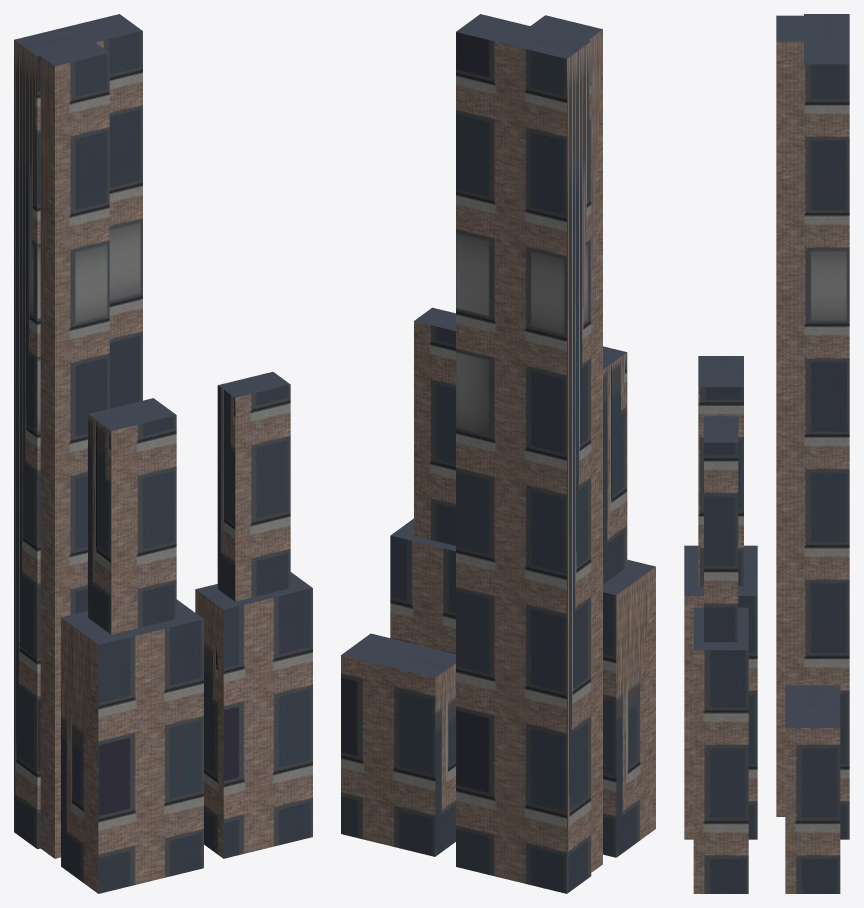
File: block_19.obj
3 views of the same model, side by side, from view 1: azimuth 30°, elevation 25°; view 2: azimuth 150°, elevation 25°; view 3: azimuth 270°, elevation 25° (orthographic). The views are drawn at different scales.
Parts seen in each view (by area): view 1: b0, b1, b3; view 2: b0, b2, b1, b3; view 3: b0, b3, b2, b1.
Part boxes in pixels (x1,y1,x2,y2): b0: (14,14,142,858); b1: (61,398,203,893); b3: (195,372,312,858); b0: (456,14,602,893); b2: (341,633,455,856); b1: (603,346,655,857); b3: (390,307,455,653); b0: (776,14,849,839); b3: (693,416,748,893); b2: (785,685,840,893); b1: (684,356,757,839).
Size of the model in its own units: 4.05 by 14 by 2.7.
